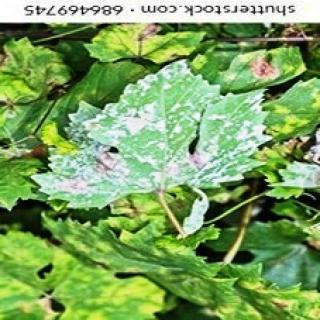grey mildew: (36, 60, 270, 214)
